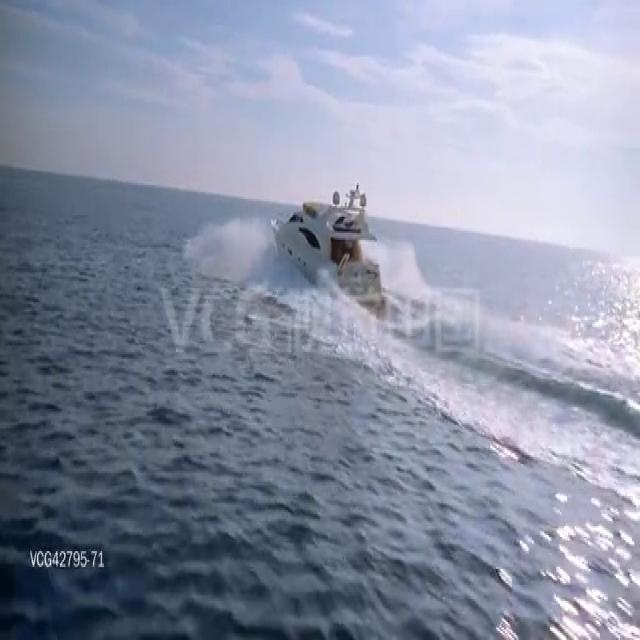houseboat: (272, 181, 384, 312)
